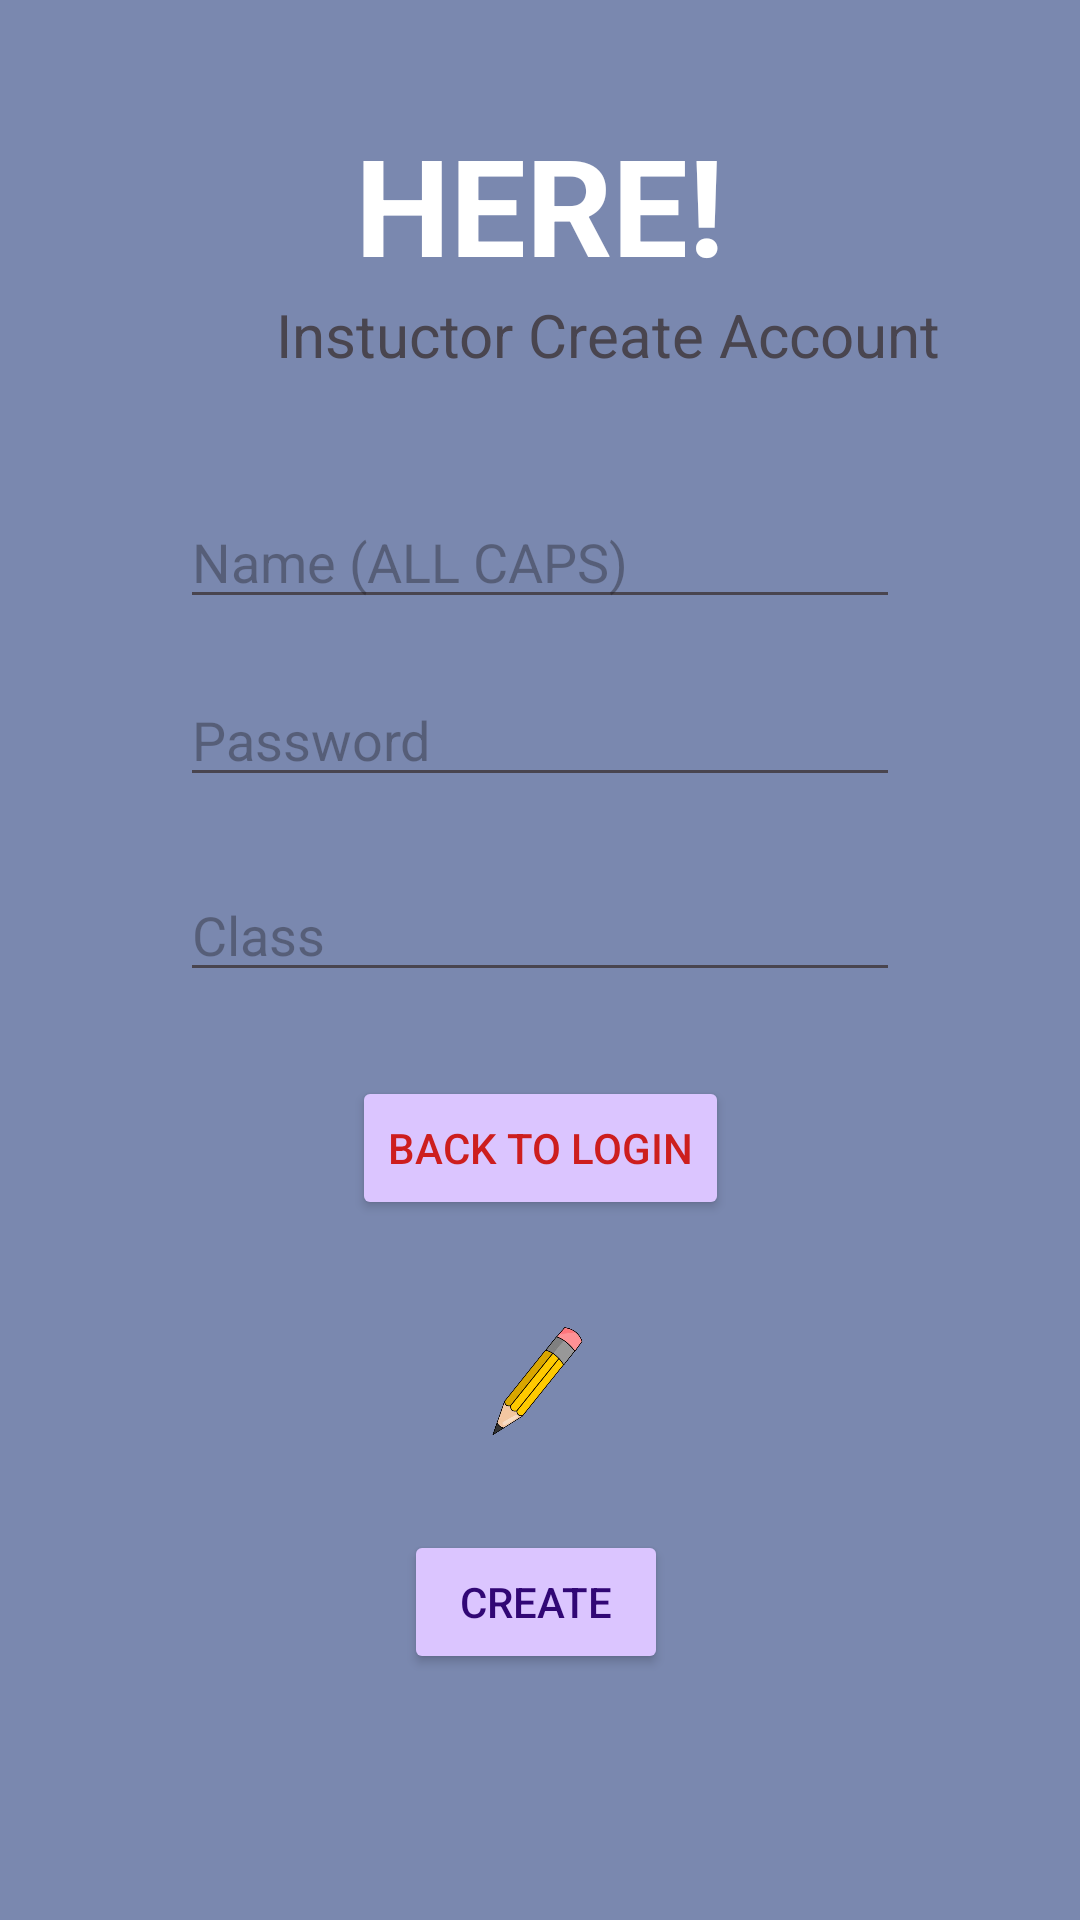

Icon click points for this 1080w x 1920h phone screenshot, format [x,y]:
pencil: [537,1381]
